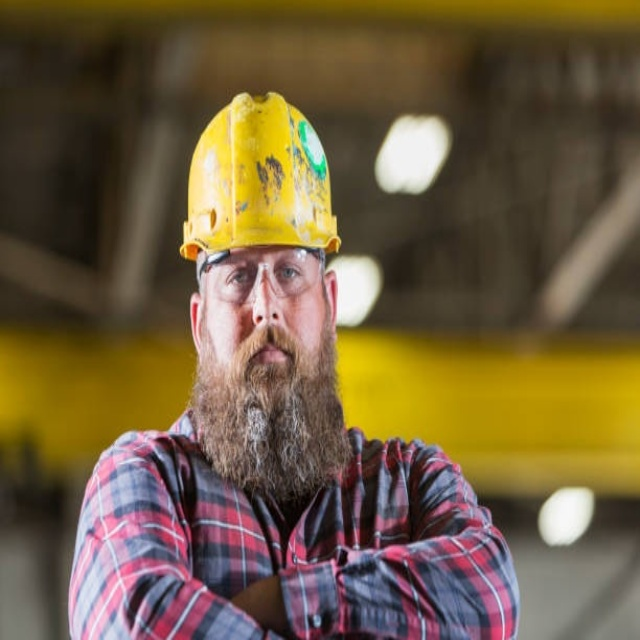Gafas: (197, 248, 326, 298)
Sin_mascara: (236, 325, 299, 386)
